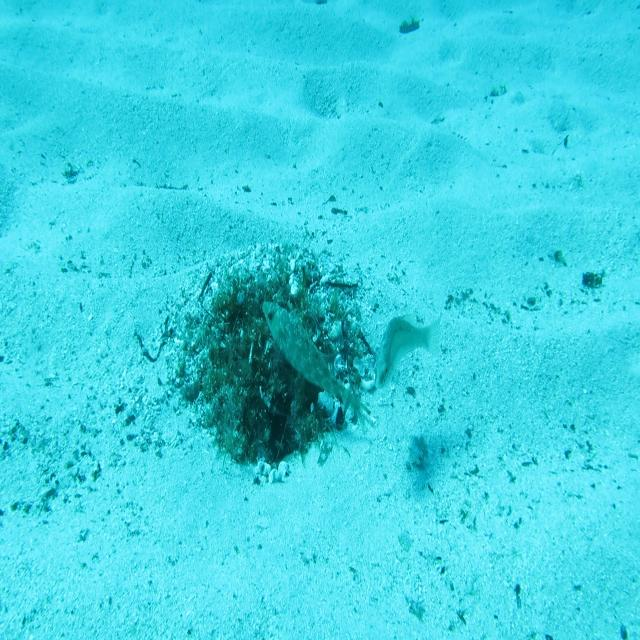FAN: (261, 297, 362, 429)
core_nest: (240, 295, 294, 327)
female: (375, 309, 443, 394)
nest: (154, 240, 376, 492)
vegetation: (397, 18, 423, 36)
